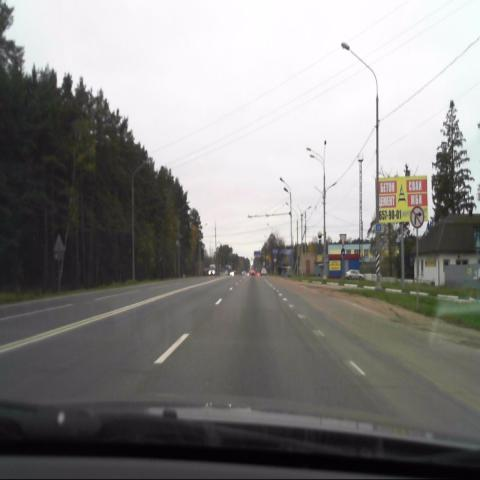3_18: (410, 205, 424, 229)
